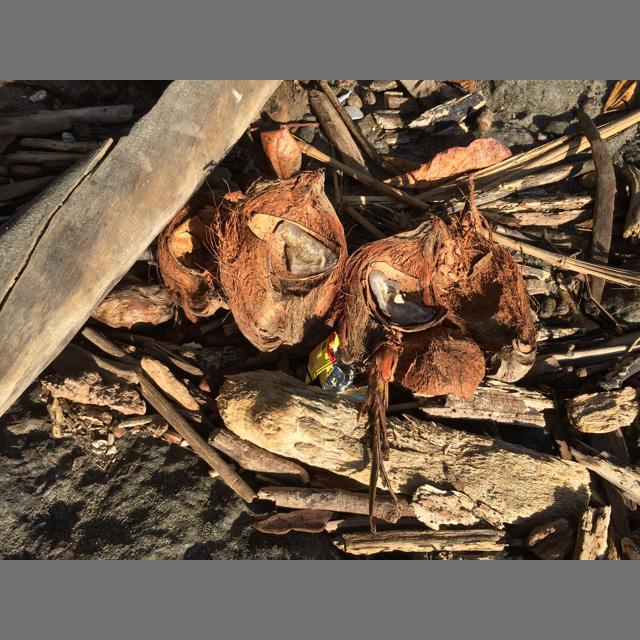litter: (305, 331, 368, 404)
